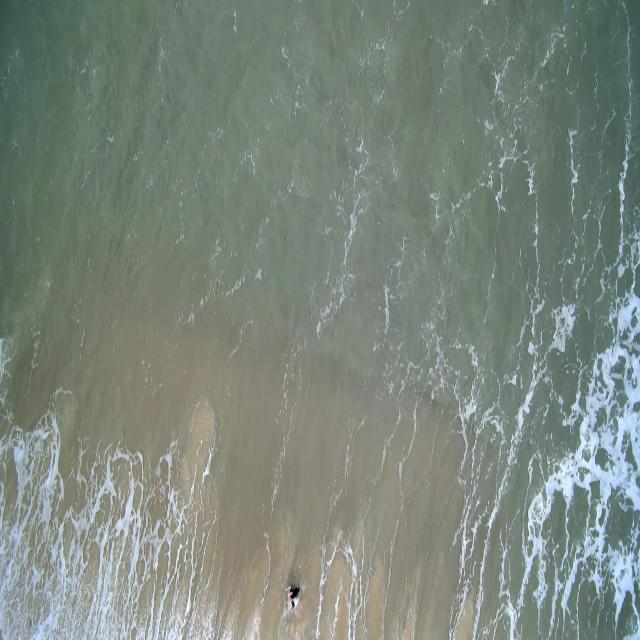dummy: (285, 583, 299, 602)
